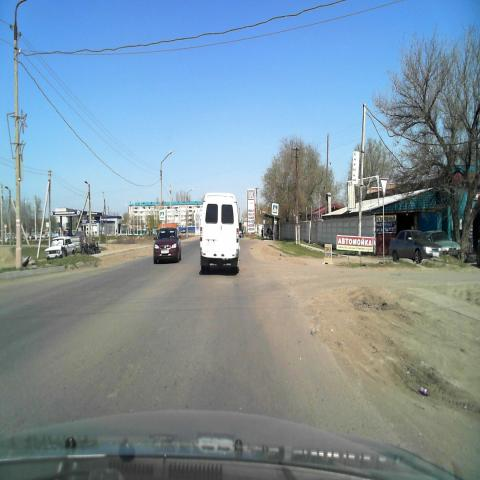2_4: (380, 177, 389, 198)
5_19_1: (271, 202, 279, 215), (159, 210, 164, 221)
